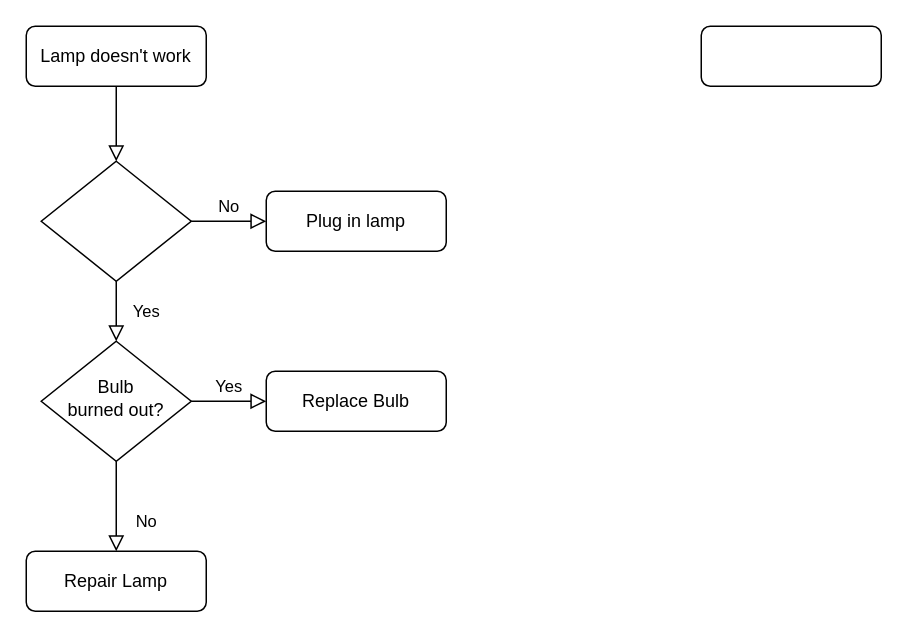
The diagram is 908 pixels wide and 638 high, and some of its shapes have lost their labels. Each missing label, with the box of its shape:
Computer: (700, 25, 881, 86)
Lamp plugged in?: (40, 160, 191, 281)
